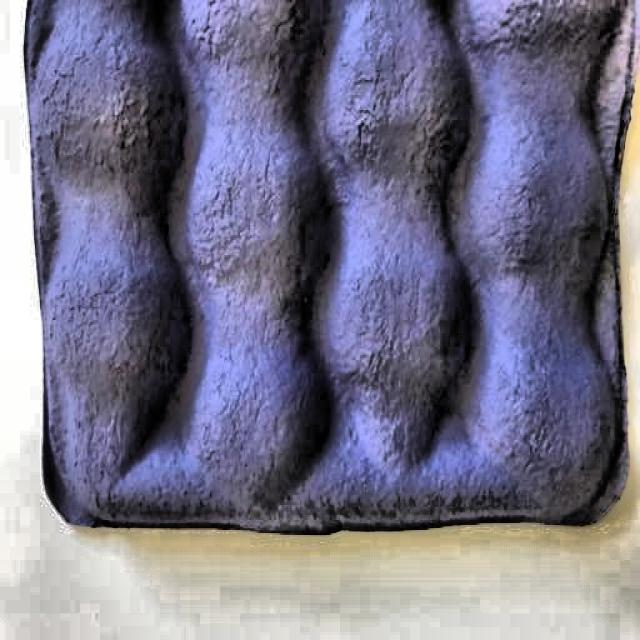paper: (19, 3, 627, 548)
